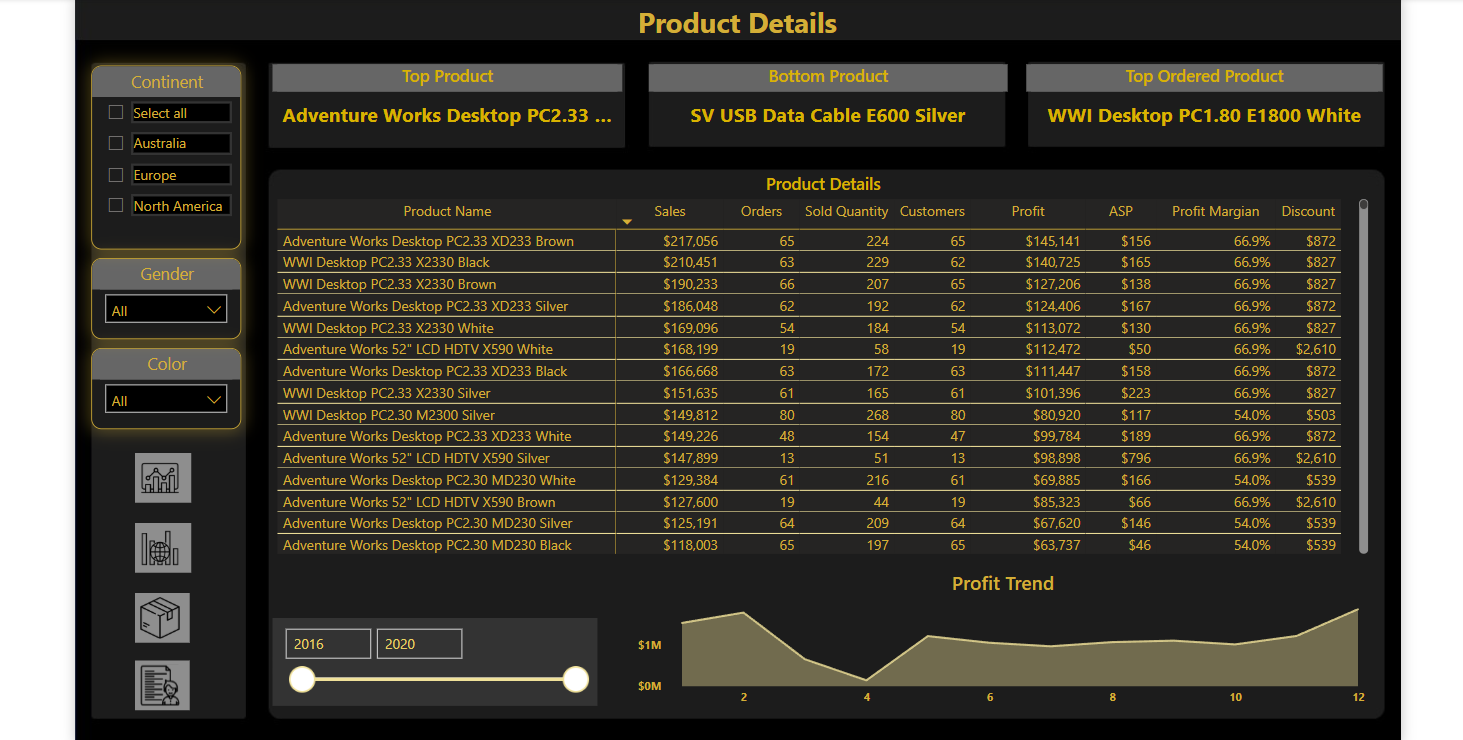

What the dashboard file says about the page in this screenshot:
{"tool":"powerbi","page":{"name":"Product Detail","canvas":[1280,720],"ordinal":2},"visuals":[{"type":"pivotTable","title":"Product Details","fields":{"Values":["Measure Table.Total Revenue","Measure Table.Total Orders","Measure Table.Total Quantity","Measure Table.Total Customers","Measure Table.Total Profit","Measure Table.Average Selling Price","Measure Table.Profit Margian","Measure Table.Discount Price"],"Rows":["Products.Product Name"]},"box":[190.6,167.7,1062.9,374],"z":0},{"type":"card","title":"Top Product","fields":{"Values":["Min(Products.Product Name)"]},"box":[190.6,63.9,337.8,79.6],"z":1000},{"type":"card","title":"Bottom Product","fields":{"Values":["Min(Products.Product Name)"]},"box":[553.8,63.9,346.2,79.6],"z":2000},{"type":"card","title":"Top Ordered Product","fields":{"Values":["Min(Products.Product Name)"]},"box":[918.1,63.9,343.8,79.6],"z":3000},{"type":"areaChart","title":"Profit Trend","fields":{"Category":["Sales.Year","Sales.Month"],"Y":["Measure Table.Total Profit"]},"box":[538.1,551.3,715.4,141.2],"z":4000},{"type":"actionButton","box":[57.7,439.1,54.3,48.3],"z":5000},{"type":"actionButton","box":[57.7,506.7,54.3,48.3],"z":6000},{"type":"actionButton","box":[57.7,574.3,53.1,48.3],"z":7000},{"type":"actionButton","box":[57.7,639.4,53.1,48.3],"z":8000},{"type":"slicer","fields":{"Values":["Sales.Year"]},"box":[190.6,598.4,313.7,84.5],"z":9000},{"type":"textbox","box":[302.9,0,672.7,56.9],"z":10000},{"type":"slicer","title":"Color","fields":{"Values":["Products.Color"]},"box":[15.7,337.8,144.8,78.4],"z":10001},{"type":"slicer","title":"Gender","fields":{"Values":["Customers.Gender"]},"box":[15.7,250.9,144.8,78.4],"z":10002},{"type":"slicer","title":"Continent","fields":{"Values":["Customers.Continent"]},"box":[15.7,65.1,144.8,177.3],"z":10003}]}

Visuals, with their boxes on the page's 1280x720 design canvas (x1, y1, x2, y2). These are canvas units, not pixel positions in the 1463x740 screenshot, which may show the page scaled, cropped or inside an application window:
"Product Details" pivotTable: box(191, 168, 1254, 542)
"Top Product" card: box(191, 64, 528, 144)
"Bottom Product" card: box(554, 64, 900, 144)
"Top Ordered Product" card: box(918, 64, 1262, 144)
"Profit Trend" areaChart: box(538, 551, 1254, 692)
actionButton: box(58, 439, 112, 487)
actionButton: box(58, 507, 112, 555)
actionButton: box(58, 574, 111, 623)
actionButton: box(58, 639, 111, 688)
slicer - Sales.Year: box(191, 598, 504, 683)
textbox: box(303, 0, 976, 57)
"Color" slicer: box(16, 338, 160, 416)
"Gender" slicer: box(16, 251, 160, 329)
"Continent" slicer: box(16, 65, 160, 242)
